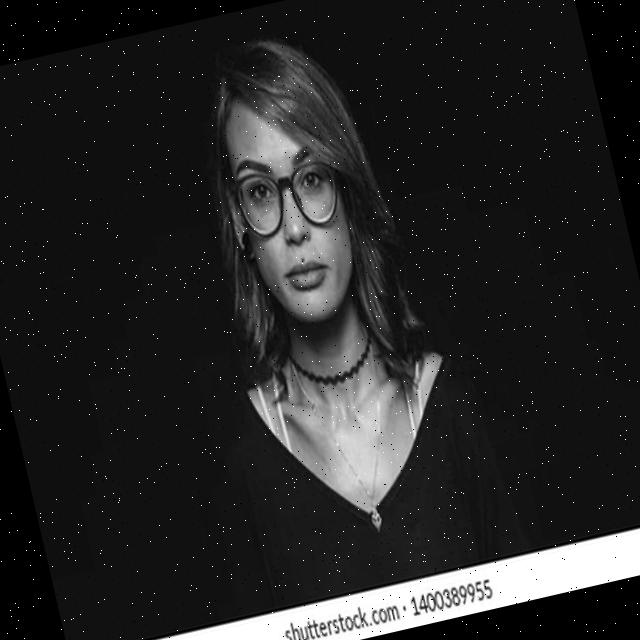Neutral: (220, 90, 368, 332)
